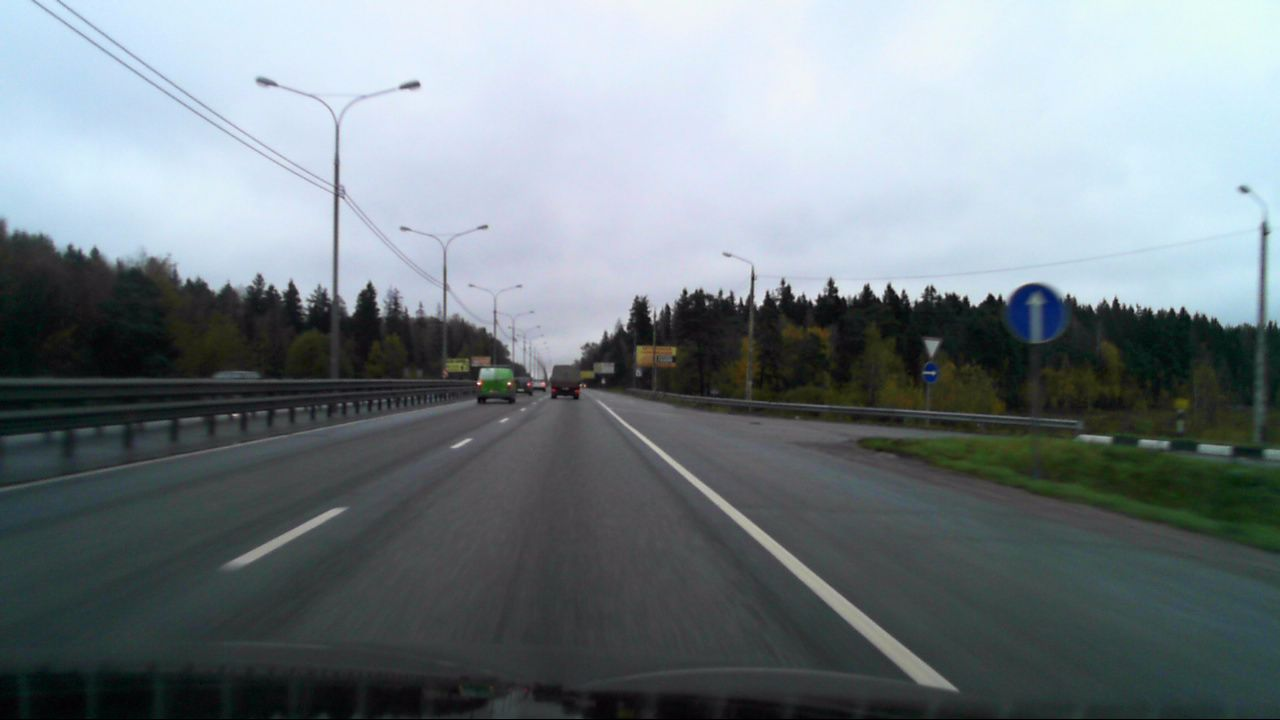Turn Right: (921, 361, 940, 383)
